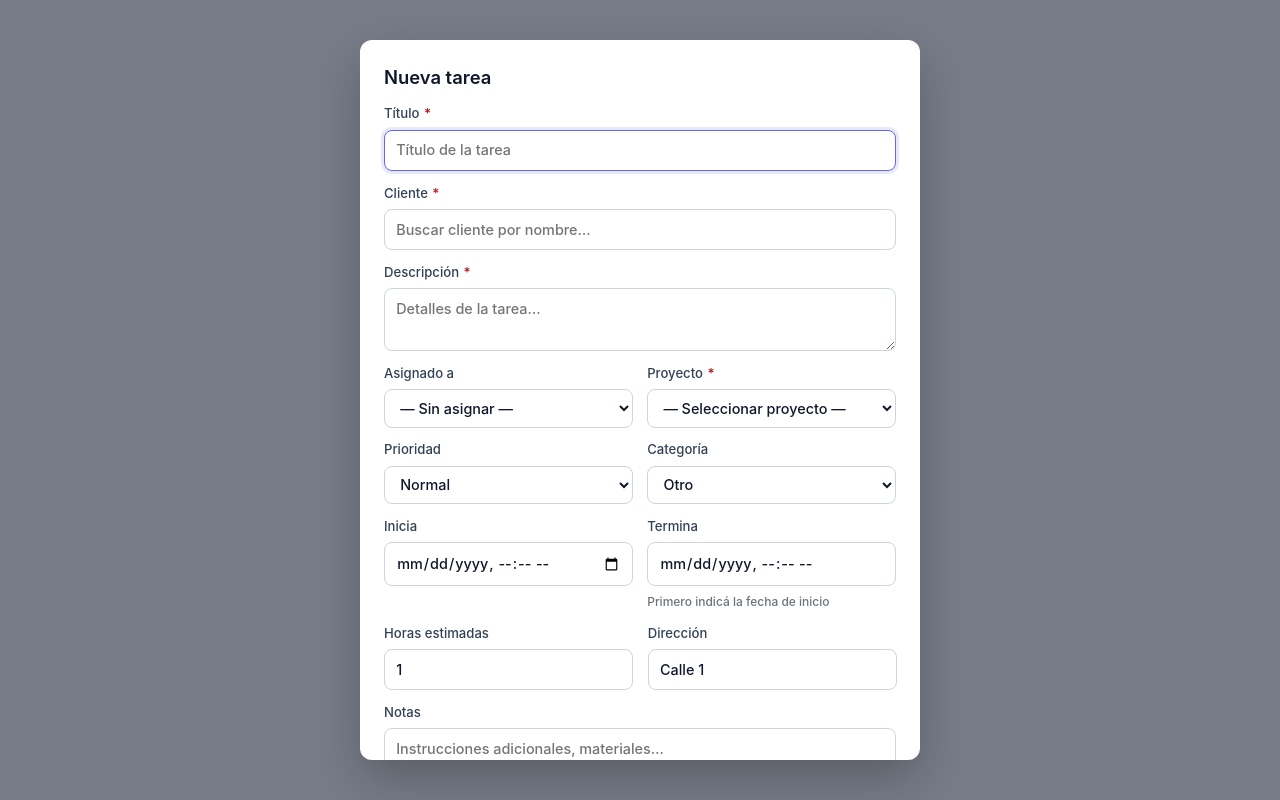
it: CreateTaskModal › disables the create button until title + client + contract are all entered
The image size is (1280, 800).
// Title only — still disabled (no client)
Type "Cambiar router" into the field with placeholder "Título de la tarea" at (640, 150), box [384,130,896,171]
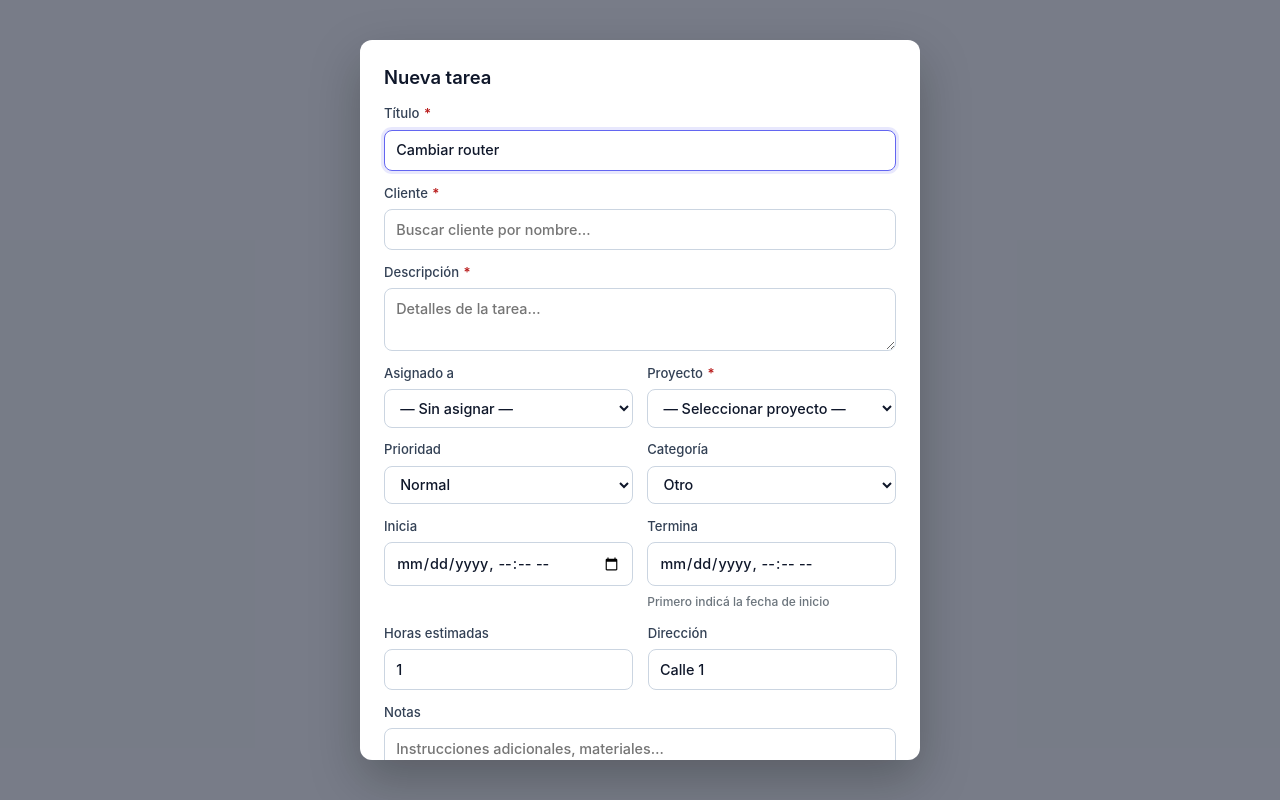
// Pick customer — still disabled (no contract selected yet)
Type "BTN" into the field with placeholder "Buscar cliente por nombre…" at (640, 230), box [384,209,896,250]
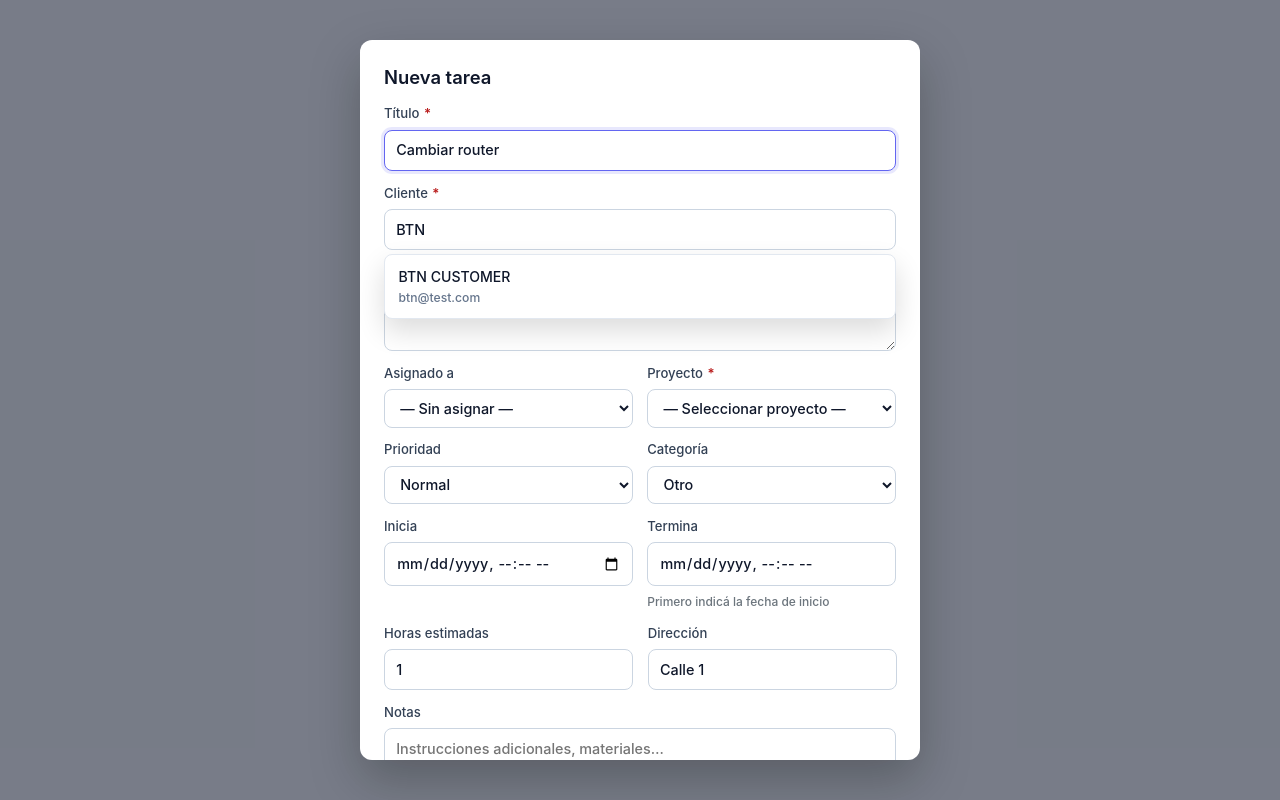
Click the text "BTN CUSTOMER" at (454, 277), box [399,266,510,287]
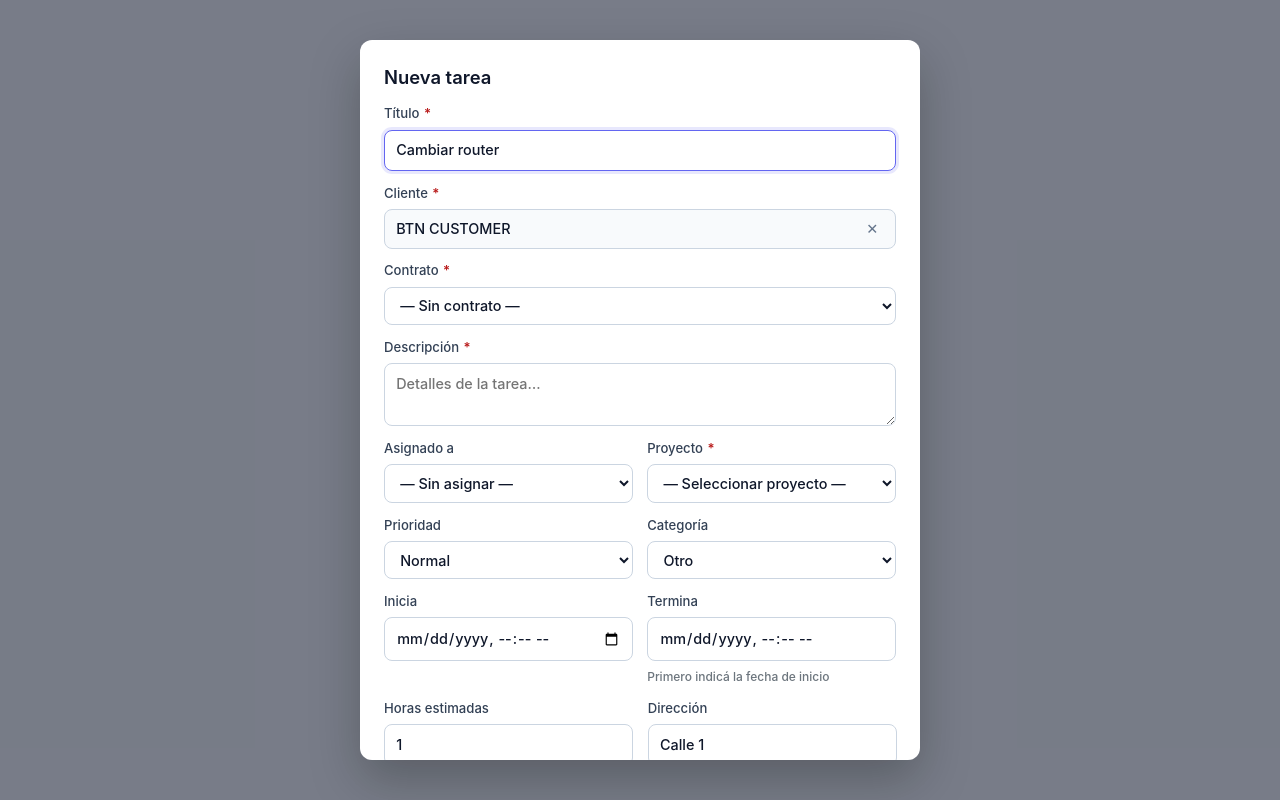
Expected: the dropdown labelled "Contrato *" is shown
// Pick contract — still disabled (no project, no description)
Select "Plan 50Mbps" in the dropdown labelled "Contrato *" at (640, 306), box [384,287,896,325]
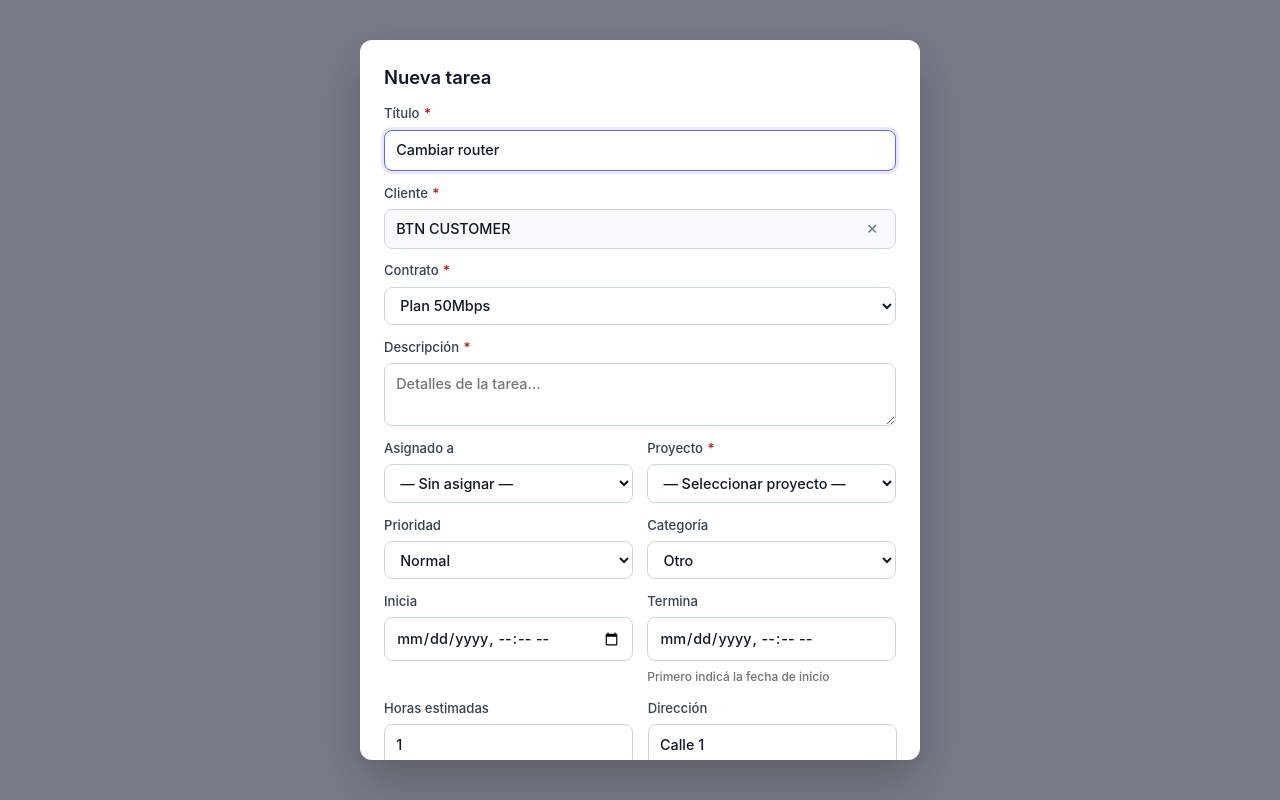
// Pick project — still disabled (no description)
Select "Instalaciones" in the dropdown labelled "Proyecto *" at (772, 483), box [647,464,896,503]
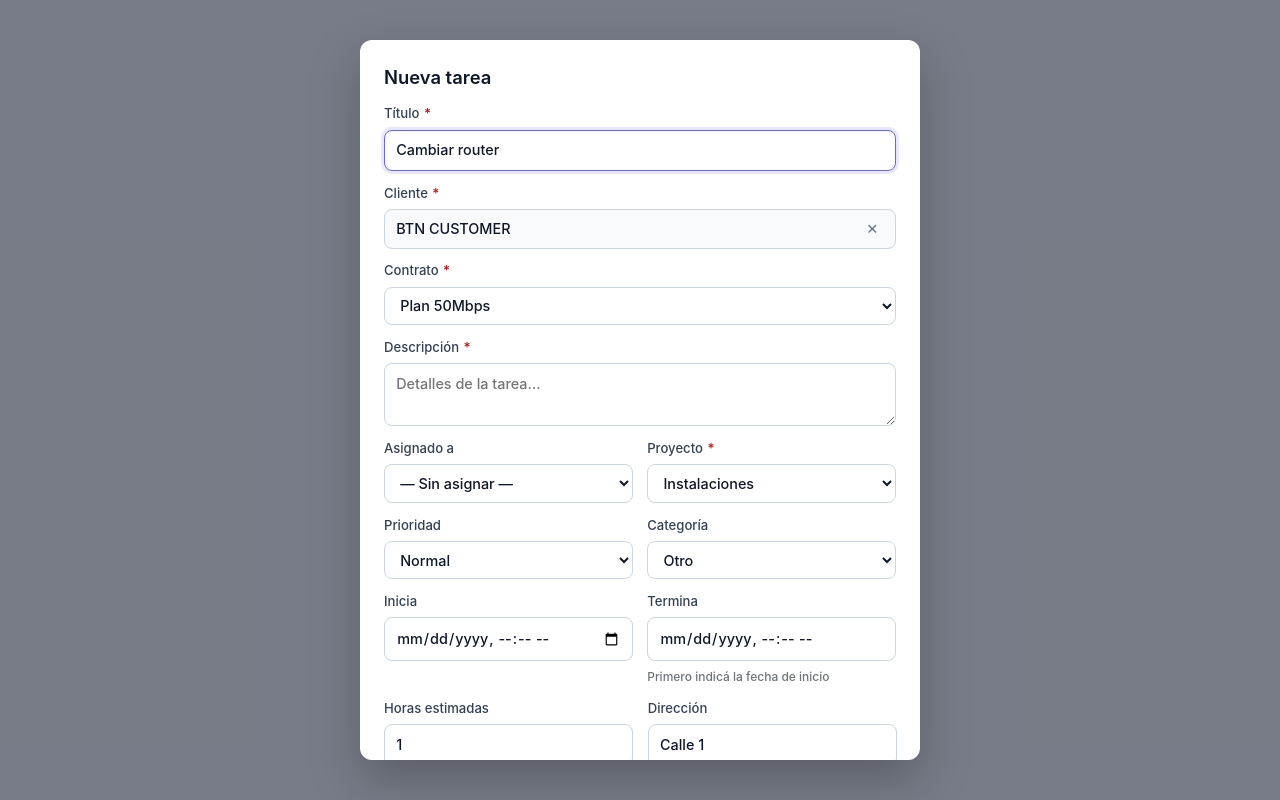
// Add description — now enabled
Type "desc" into the text box with placeholder "Detalles de la tarea…" at (640, 395), box [384,363,896,426]
(page scrolled)
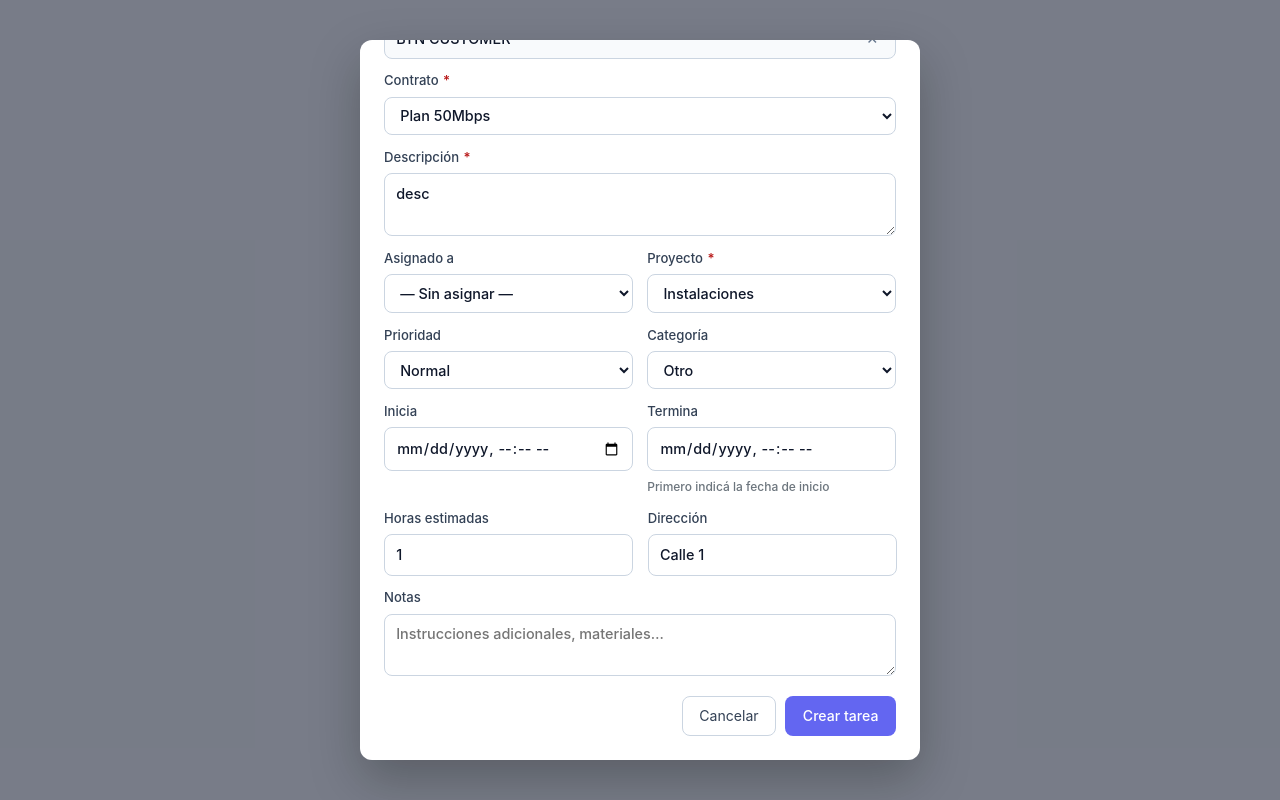
Expected: the button "Crear tarea" is enabled, [785,696,896,736]
